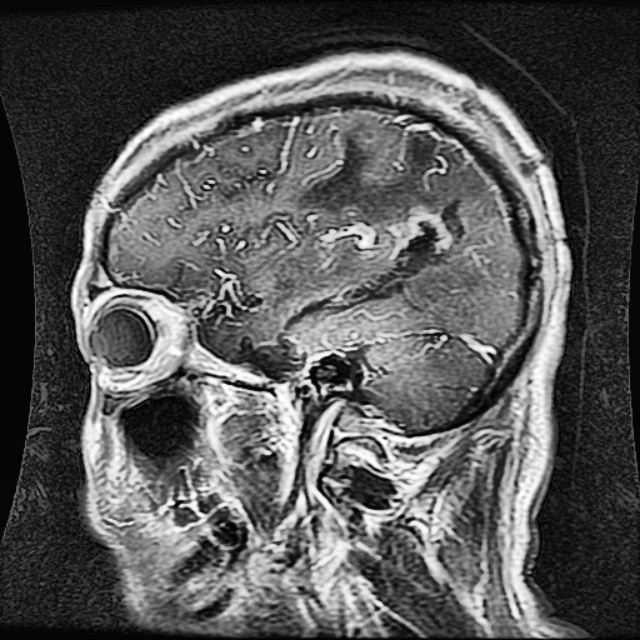Meningioma: (393, 215, 447, 275)
